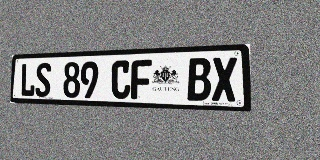8: (63, 62, 80, 98)
9: (80, 61, 98, 98)
B: (187, 58, 211, 101)
C: (111, 60, 131, 99)
F: (131, 59, 152, 99)
L: (20, 63, 36, 97)
S: (35, 63, 51, 97)
X: (212, 57, 237, 102)
